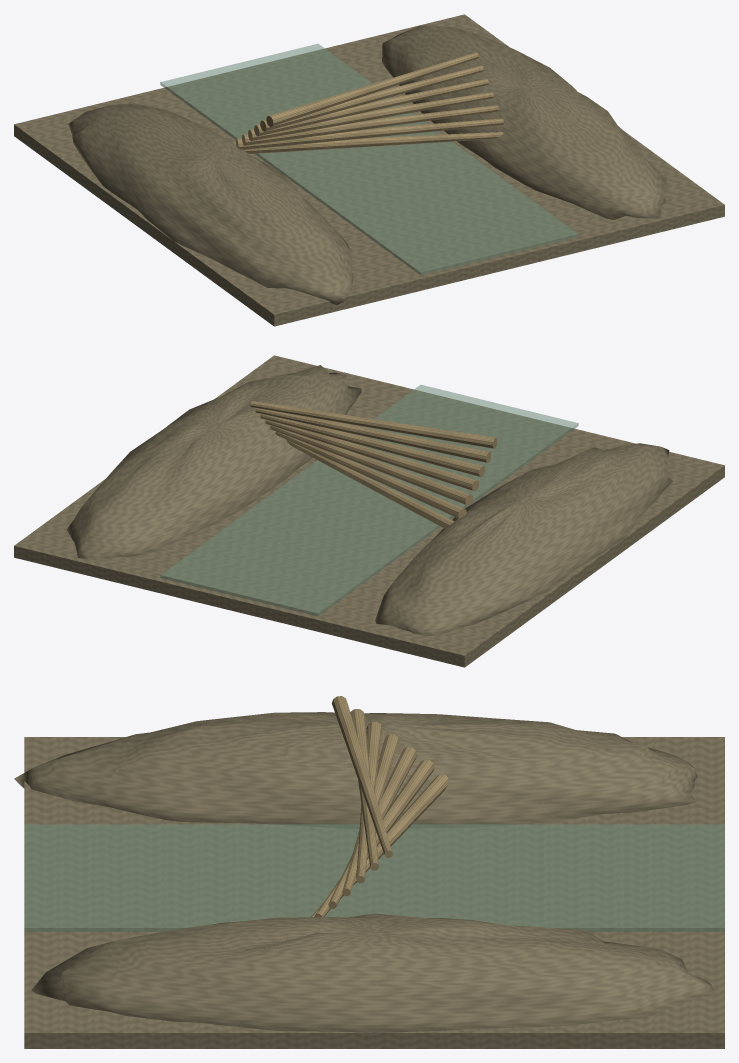
File: channel_debris_dam_swamp_and_mangrove_22647.glb
The picture shows the model from 3 angles, top to bottom: view 1: azimuth 30°, elevation 25°; view 2: azimuth 150°, elevation 25°; view 3: azimuth 270°, elevation 25°; orthographic projection. The views are drawn at different scales.
Parts seen in each view (by area): view 1: debris-dam; view 2: debris-dam; view 3: debris-dam.
Part boxes in pixels (left/top/right/bottom): debris-dam: left=14, top=14, right=724, bottom=326; debris-dam: left=14, top=355, right=724, bottom=667; debris-dam: left=14, top=696, right=724, bottom=1048.
Bounding box in the file's own units: 4 × 0.8229 × 4.06.
Materials: 3 (2 with a texture image).
